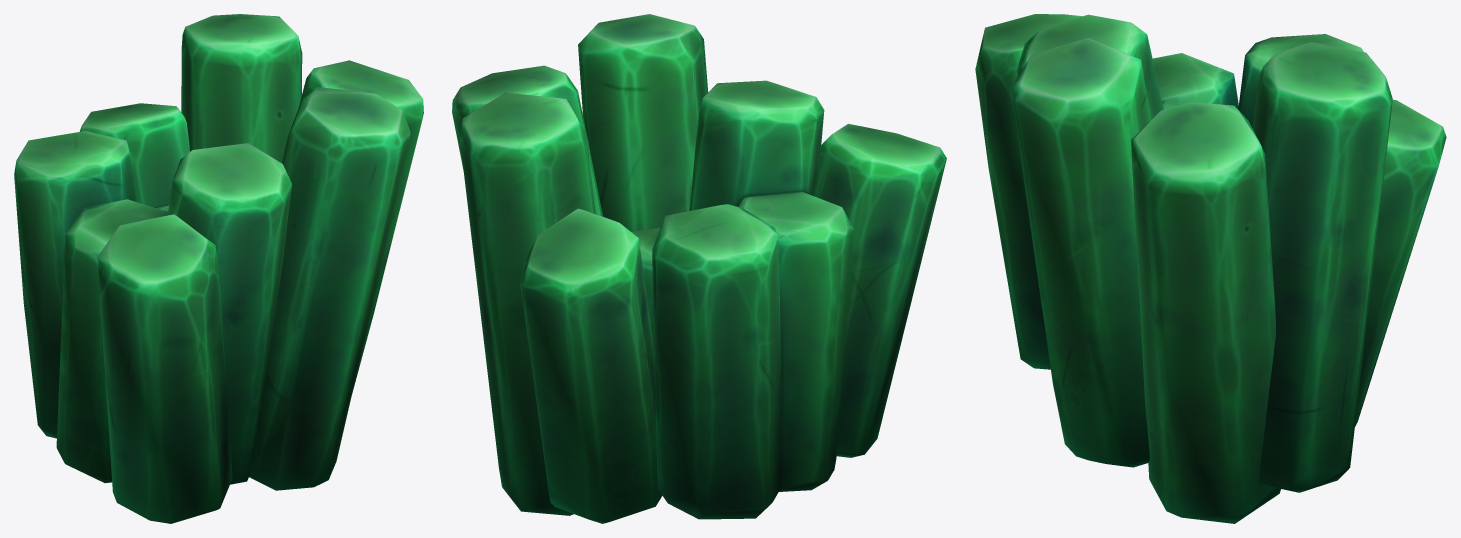
File: SM_Gem_Emerald_009.fbx
The picture shows the model from 3 angles, left to right: view 1: azimuth 30°, elevation 25°; view 2: azimuth 150°, elevation 25°; view 3: azimuth 270°, elevation 25°; orthographic projection. The views are drawn at different scales.
Visible parts, largest first — view 1: SM_Gem_Emerald_009; view 2: SM_Gem_Emerald_009; view 3: SM_Gem_Emerald_009.
Part boxes in pixels (x1=…): SM_Gem_Emerald_009: x1=14, y1=14, x2=423, y2=523; SM_Gem_Emerald_009: x1=452, y1=14, x2=946, y2=523; SM_Gem_Emerald_009: x1=975, y1=14, x2=1446, y2=523.
Bounding box in the file's own units: 58.06 × 59.34 × 56.67.
